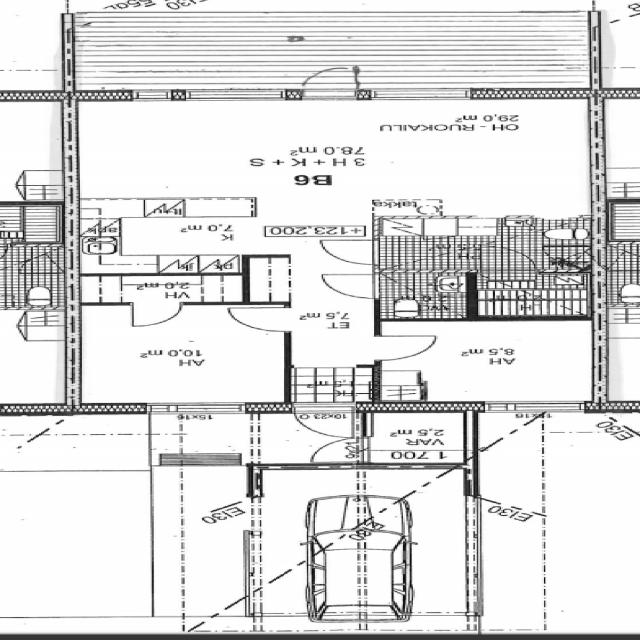door: (290, 400, 360, 440), (294, 62, 367, 99), (368, 331, 443, 363), (223, 304, 294, 334), (316, 271, 384, 301), (313, 237, 381, 267), (124, 300, 188, 329), (305, 437, 367, 463)
window: (362, 86, 475, 102), (182, 87, 292, 103), (479, 399, 593, 414), (145, 401, 250, 415), (126, 88, 182, 104)
zone: (64, 94, 608, 222), (74, 303, 288, 406), (376, 318, 602, 403), (374, 219, 590, 278), (362, 410, 469, 466), (468, 265, 591, 312), (6, 432, 153, 471), (77, 274, 251, 303), (373, 270, 471, 318), (597, 95, 640, 193), (1, 242, 68, 304), (0, 202, 68, 246), (607, 200, 640, 240)
